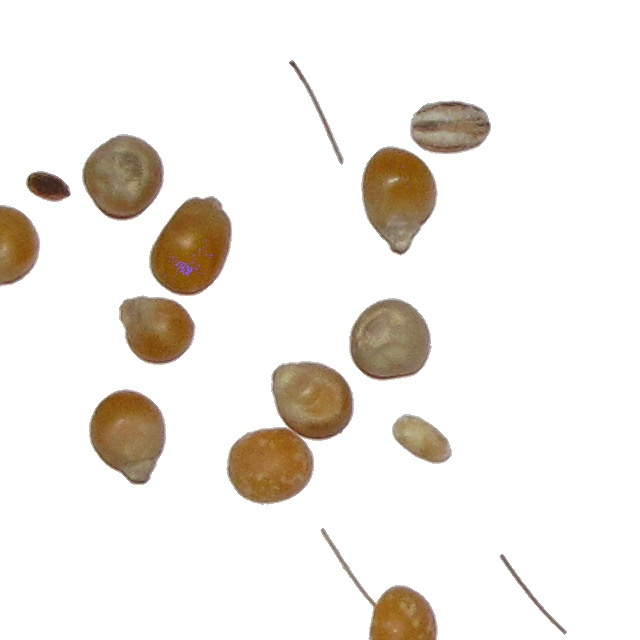buckwheat: (25, 170, 72, 203)
dill: (288, 59, 345, 166), (498, 553, 568, 636)
mais: (360, 145, 439, 257), (148, 195, 233, 297), (88, 388, 167, 486), (81, 133, 165, 222), (348, 297, 433, 382), (225, 426, 315, 506), (270, 360, 355, 442), (118, 294, 197, 366), (364, 575, 436, 640), (391, 413, 453, 465)
other: (409, 99, 492, 155)
